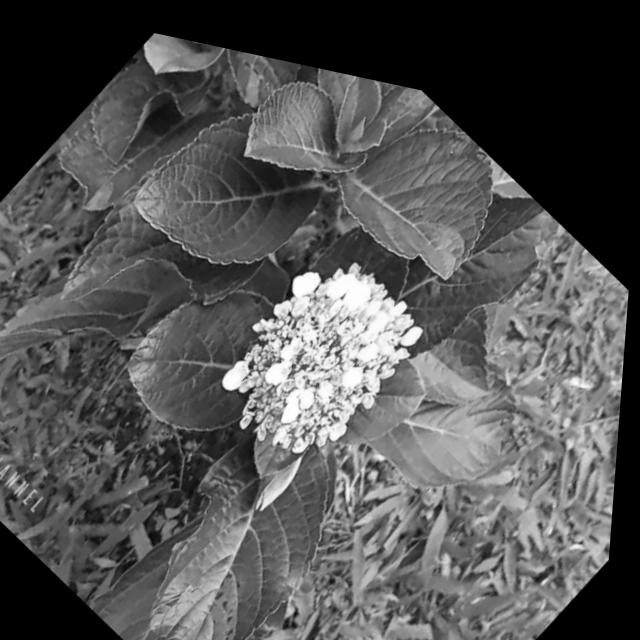Flower: (195, 194, 450, 494)
